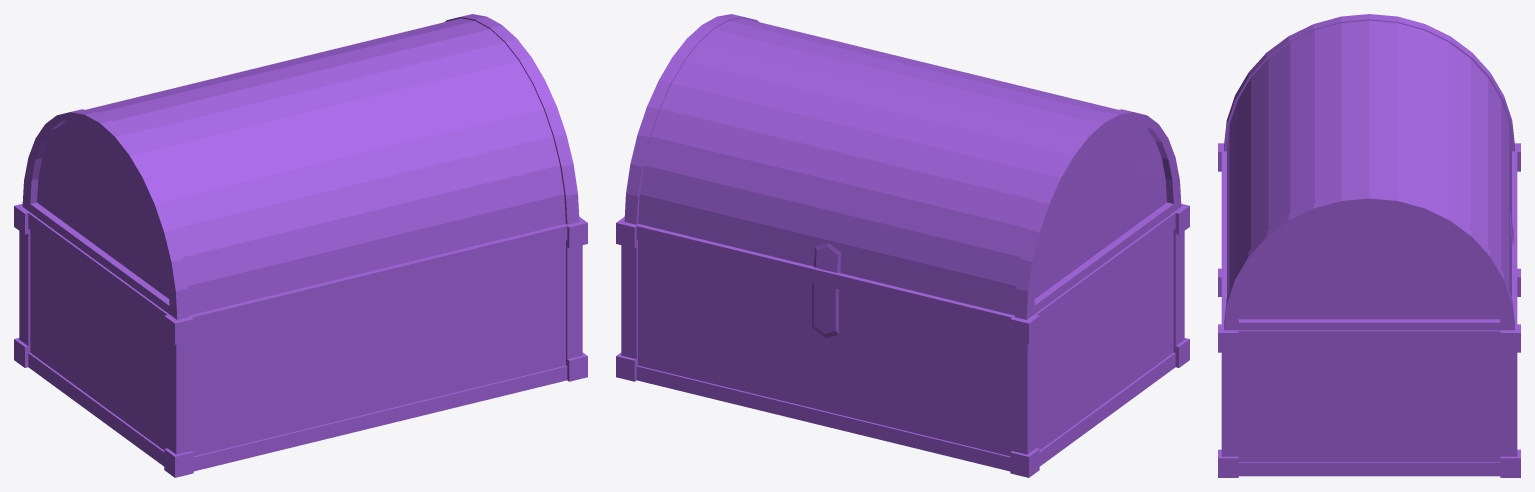
File: chest.glb
The picture shows the model from 3 angles, left to right: view 1: azimuth 30°, elevation 25°; view 2: azimuth 150°, elevation 25°; view 3: azimuth 270°, elevation 25°; orthographic projection. The views are drawn at different scales.
Visible parts, largest first — view 1: Chest.001; view 2: Chest.001; view 3: Chest.001.
Boxes of the visible parts, bbox=[...] form: Chest.001: bbox=[14, 14, 587, 477]; Chest.001: bbox=[616, 14, 1189, 477]; Chest.001: bbox=[1218, 14, 1520, 477].
Size of the model in its own units: 6.15 by 4.19 by 4.15.
